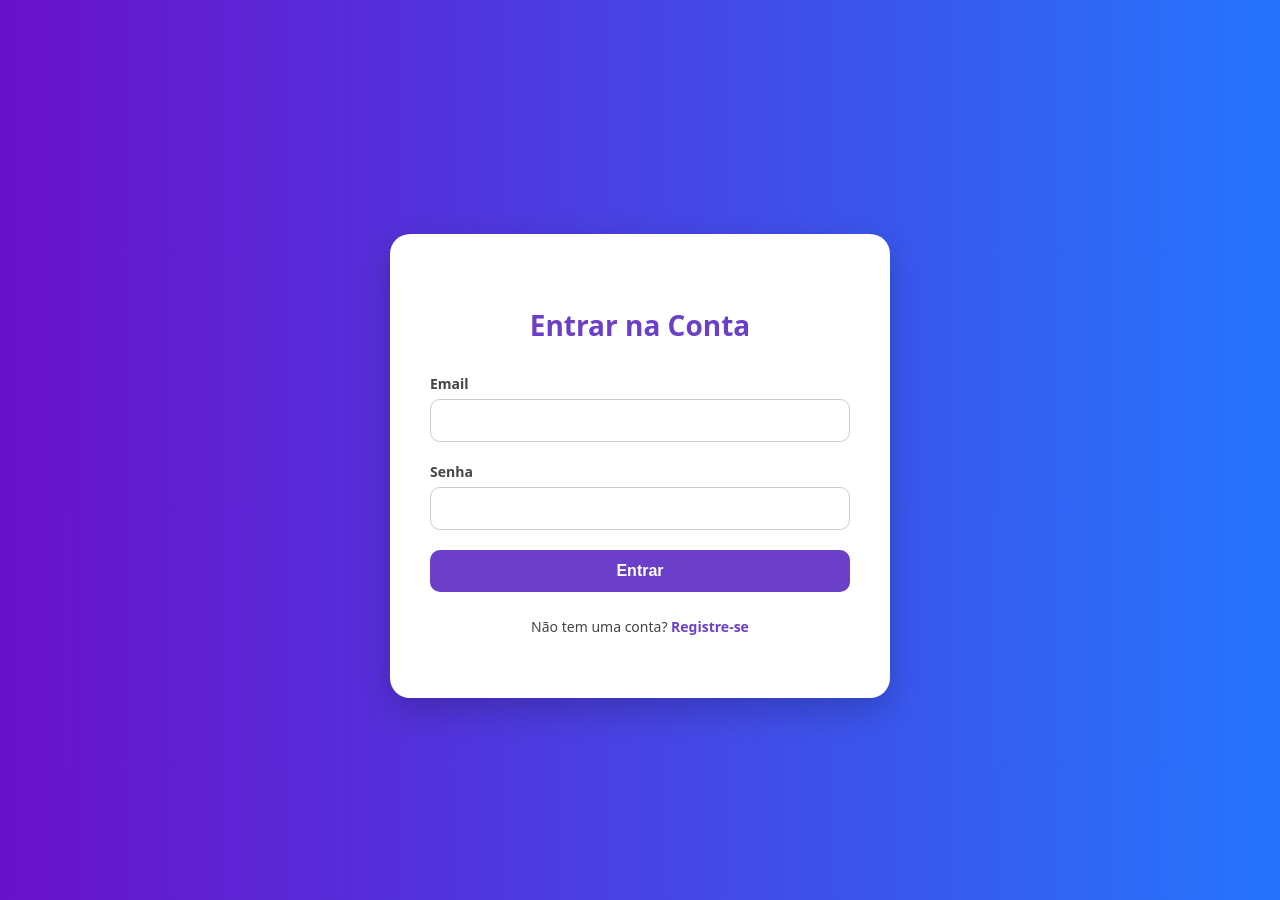
Login Component › exibe erro ao falhar login
Type "test@example.com" into the field labelled "Email".
click(640, 420); type("test@example.com")  # box 430,399 -> 850,442
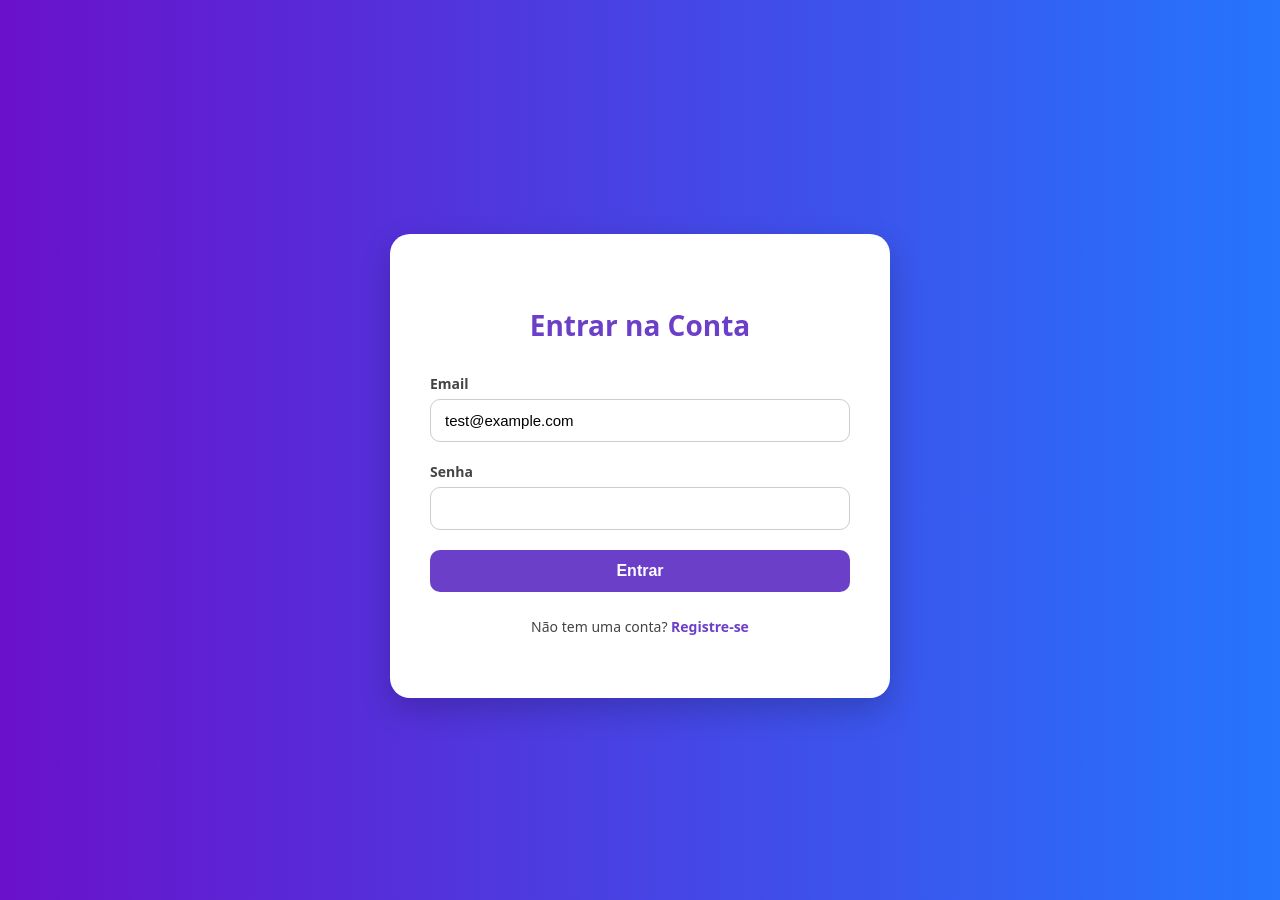
Type "123456" into the password field labelled "Senha".
click(640, 508); type("123456")  # box 430,487 -> 850,530
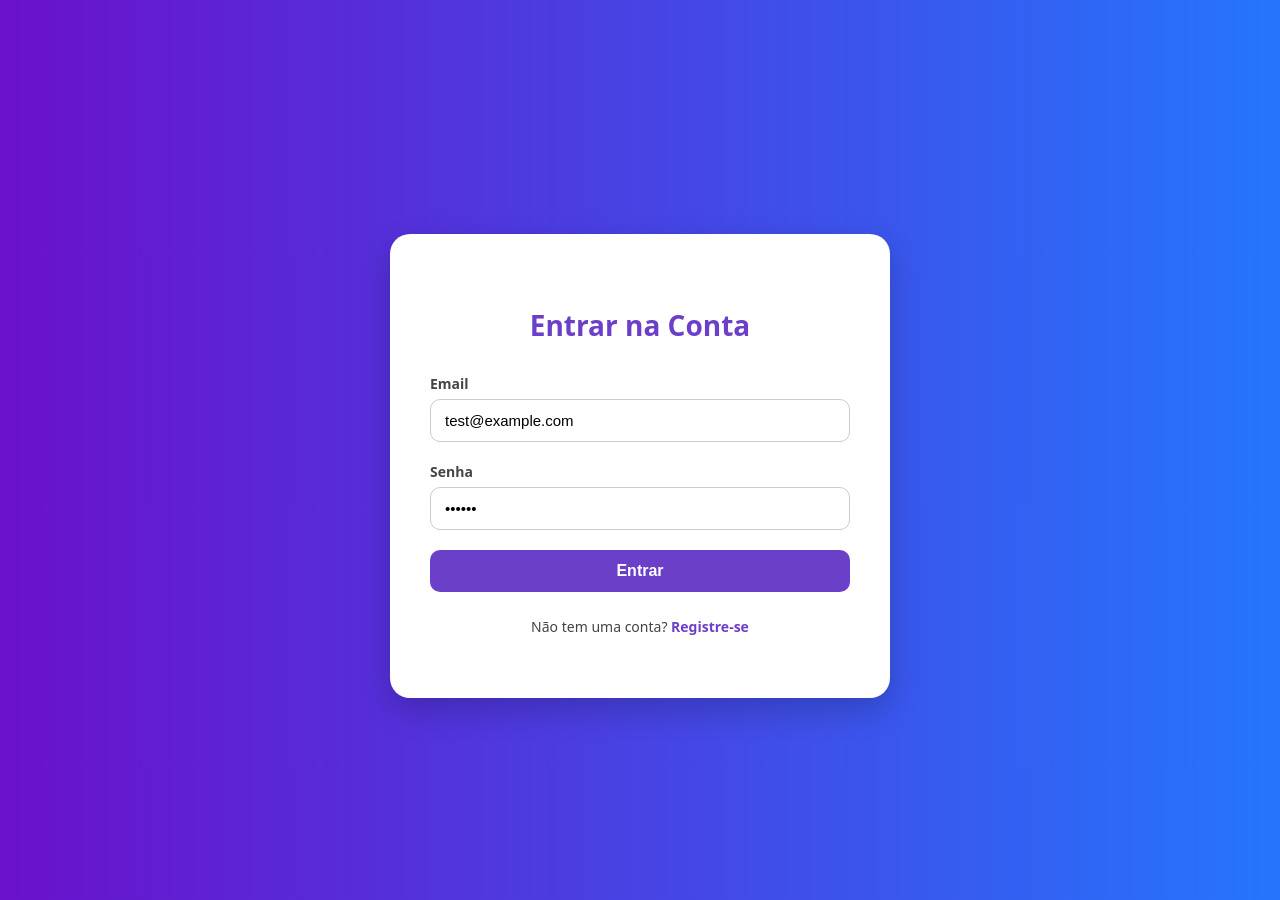
Click the button "Entrar".
click(640, 571)  # box 430,550 -> 850,592
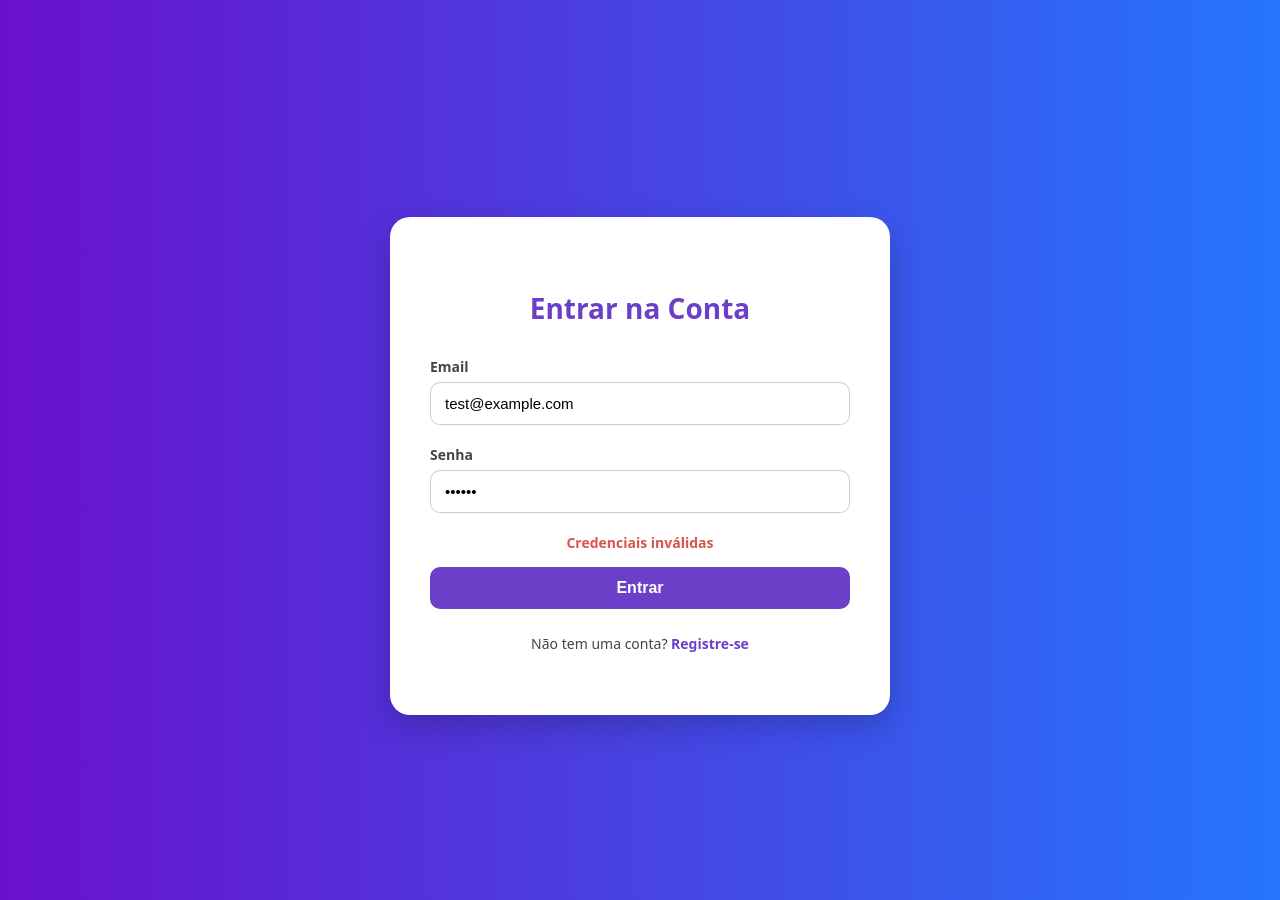
Now the text "Credenciais inválidas" is shown, box 566,533 -> 714,552
